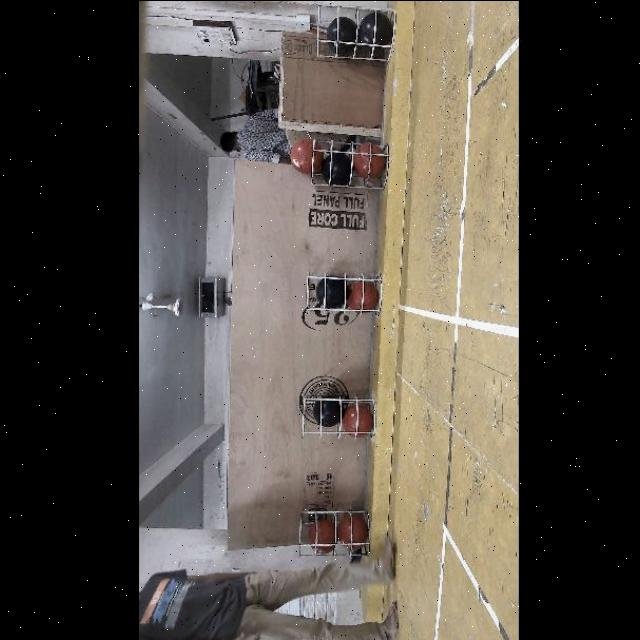P: (316, 276, 344, 310), (322, 152, 350, 185), (360, 20, 390, 50), (328, 20, 356, 52), (312, 397, 340, 425)
R: (289, 136, 322, 173), (354, 142, 384, 176), (338, 516, 366, 548), (343, 406, 371, 436), (348, 282, 376, 312), (308, 523, 334, 553)
S: (312, 0, 398, 68), (307, 132, 389, 192), (293, 505, 375, 561), (302, 267, 384, 321), (296, 391, 378, 442)
